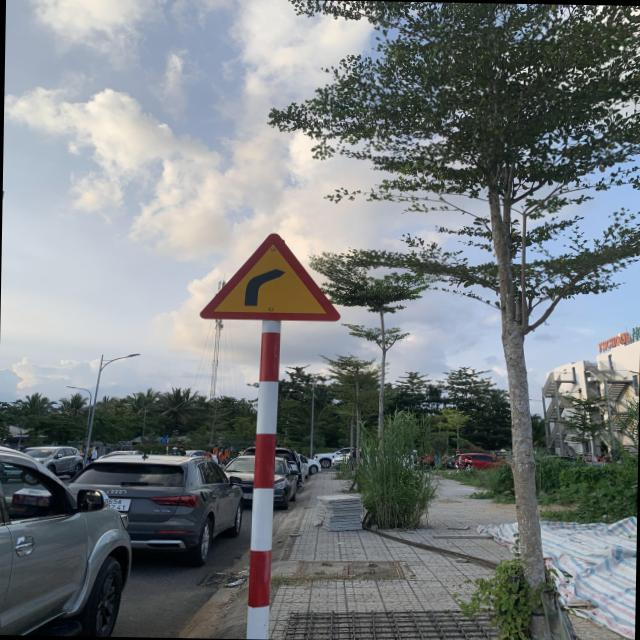Duong_Nguoi_Di_Bo_Cat_Ngang: (201, 230, 342, 320)
